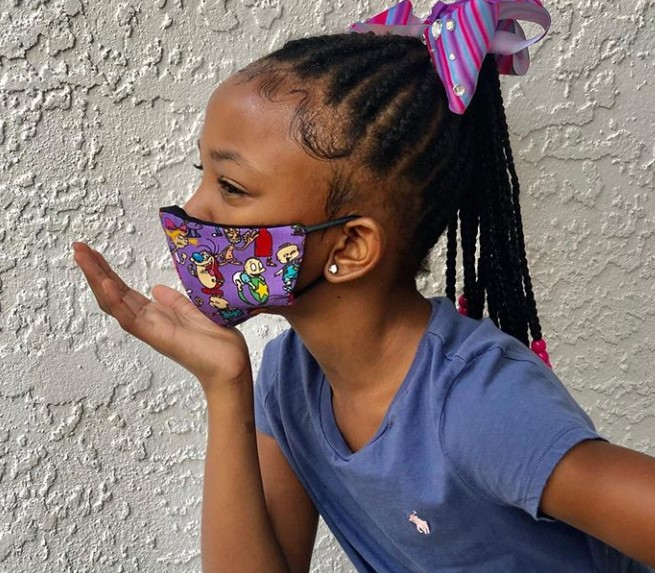face_with_mask: (156, 63, 398, 333)
